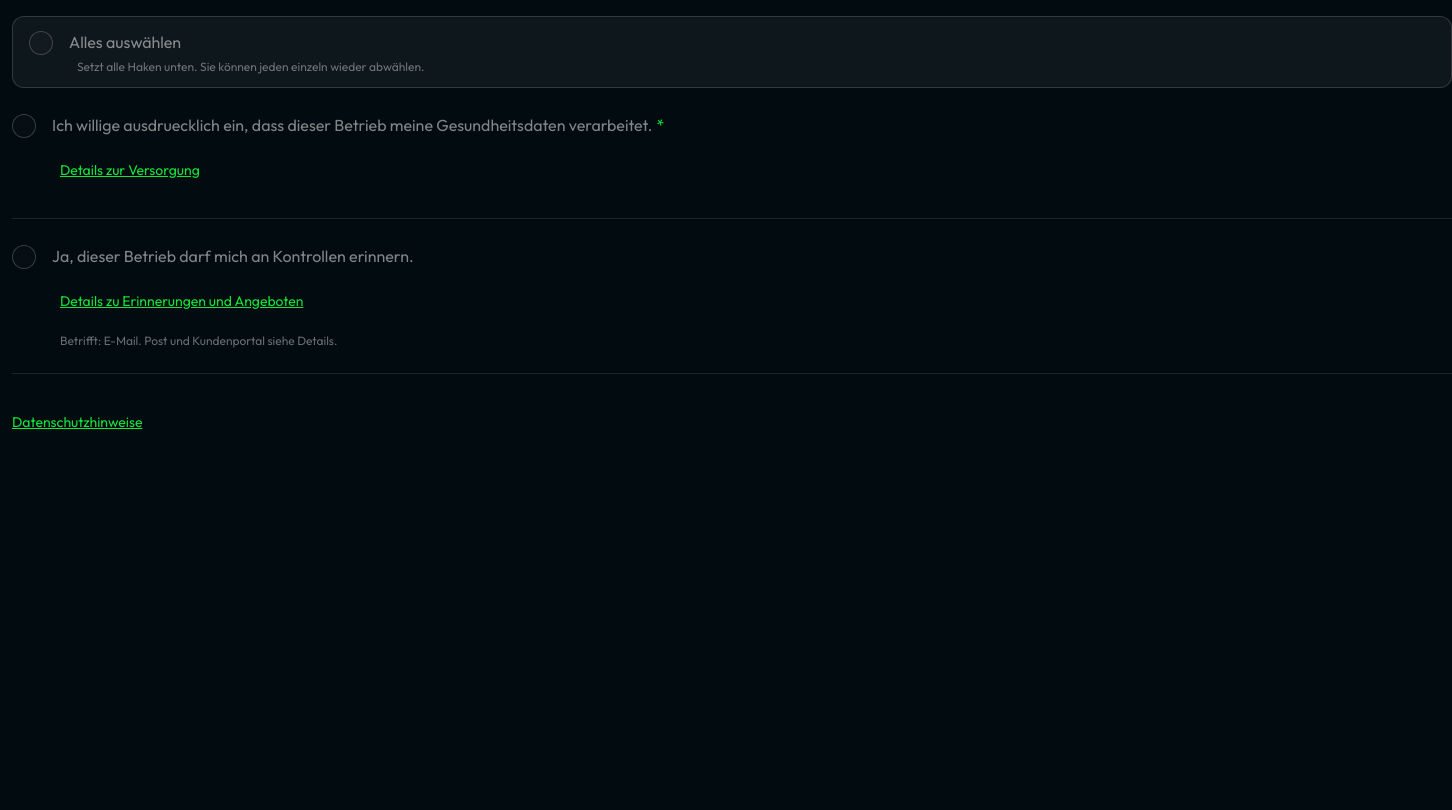
Test case: Die Texte kommen vom Server, nicht aus dem Bundle › zeigt Detailtext und Datenschutzhinweise erst nach dem Aufklappen (Ebene 2 und 3)
Check: the text "Detailtext Versorgung" is not shown
What coordinates should you click on to do the following:
click the button "Details zur Versorgung"
I would click on:
 (130, 170)
Its box is [60,146,200,194].
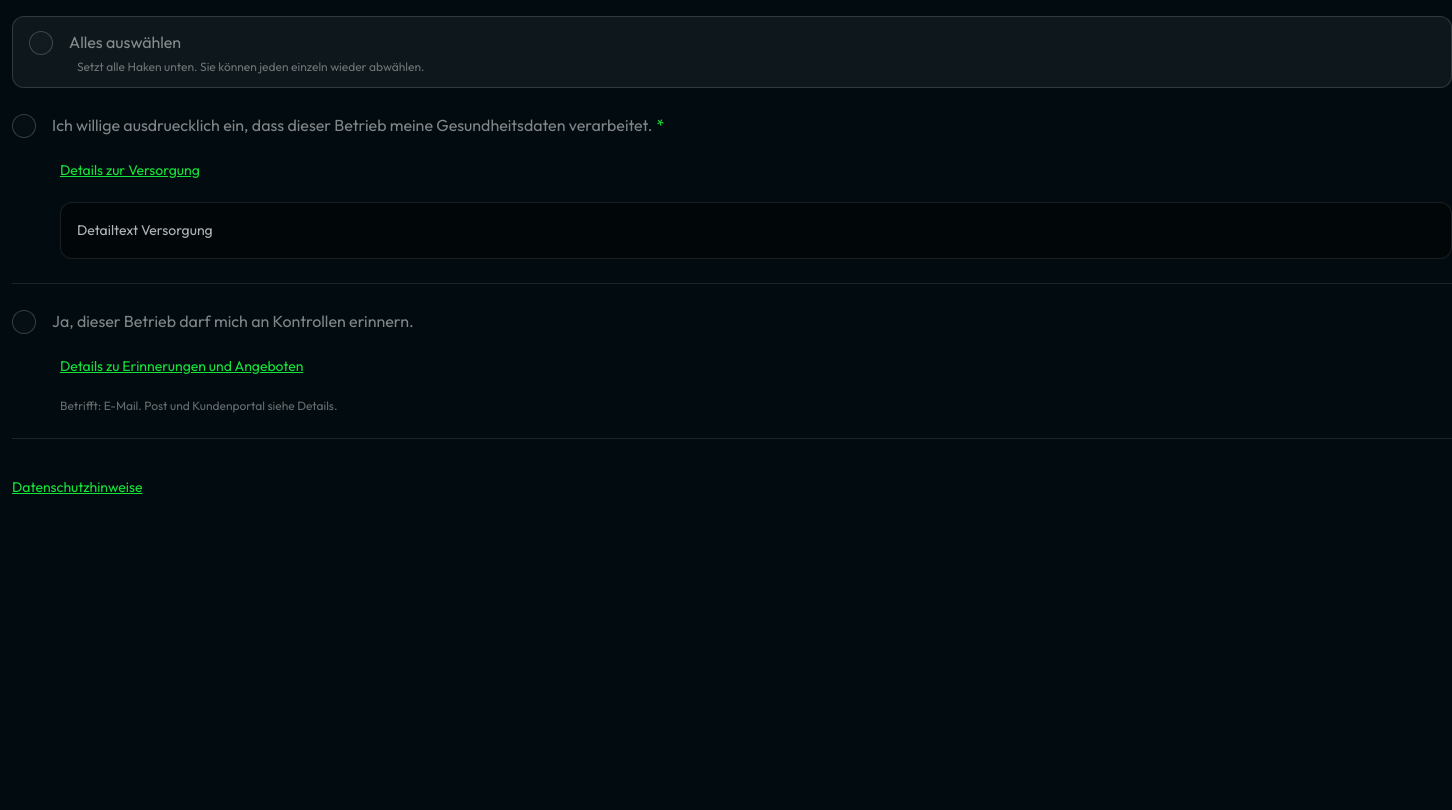
Check: the text "Datenschutzhinweise des Betriebs" is not shown
Check: the text "Detailtext Versorgung" is shown, box [60,202,1451,259]
What coordinates should you click on to do the following:
click the button "Datenschutzhinweise"
I would click on:
 (77, 487)
Its box is [12,463,142,511].
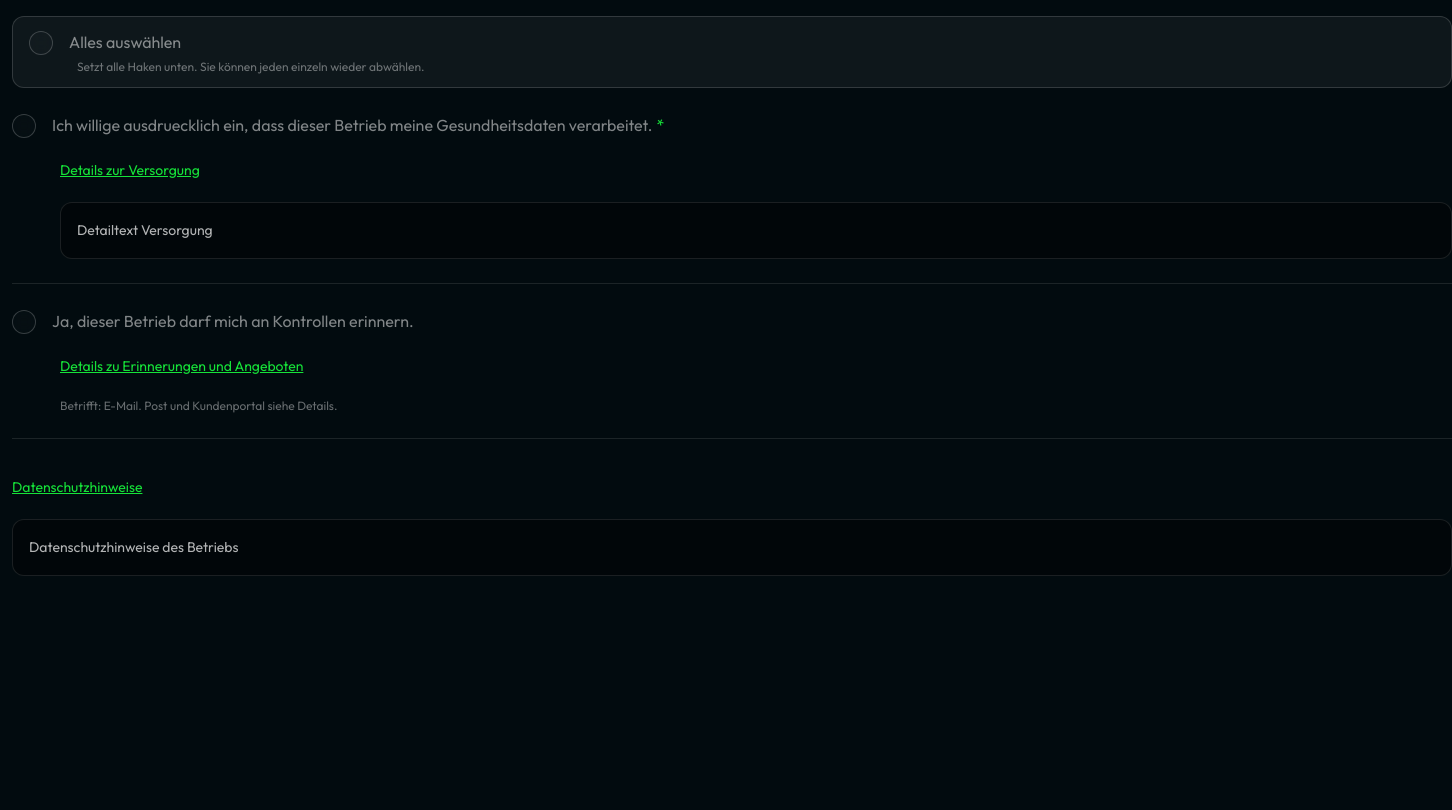
Check: the text "Datenschutzhinweise des Betriebs" is shown, box [12,519,1451,576]
